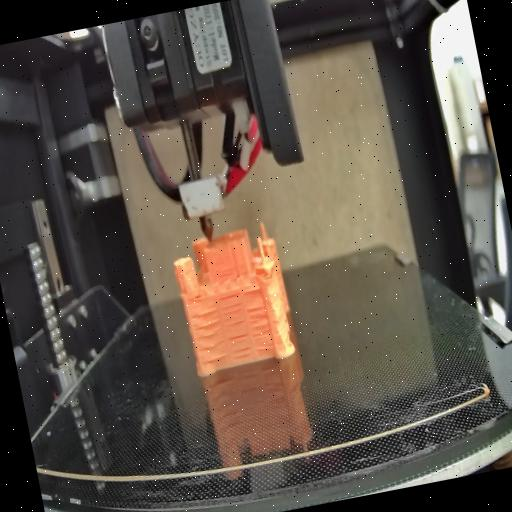cracks: (218, 294, 254, 360), (190, 308, 228, 364), (245, 302, 275, 352), (240, 284, 264, 300), (212, 264, 235, 280), (188, 291, 204, 302)
